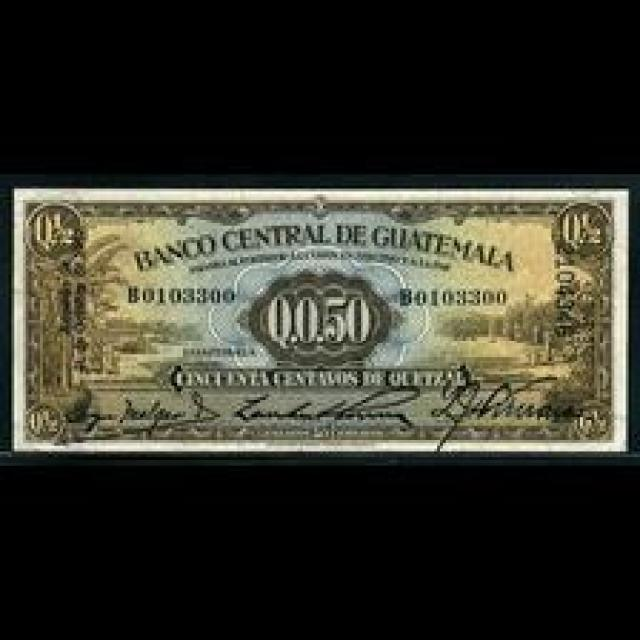banknote: (3, 180, 637, 454)
